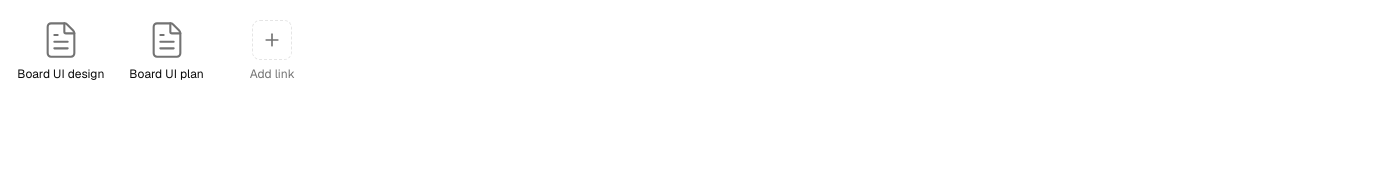
Test: a file that fails to load still offers the way back
This screenshot has width=1378, height=172.
Click the button "Board UI plan": (167, 51) x1=118 y1=12 x2=215 y2=90
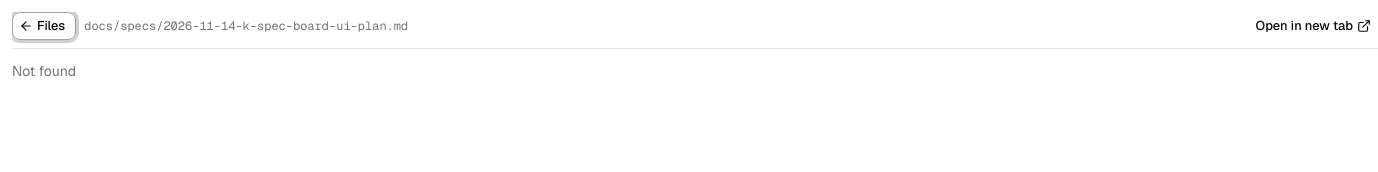
Check: the text "Not found" is shown, box x1=12 y1=62 x2=76 y2=80
Check: the button "Files" is shown, box x1=12 y1=12 x2=76 y2=40
